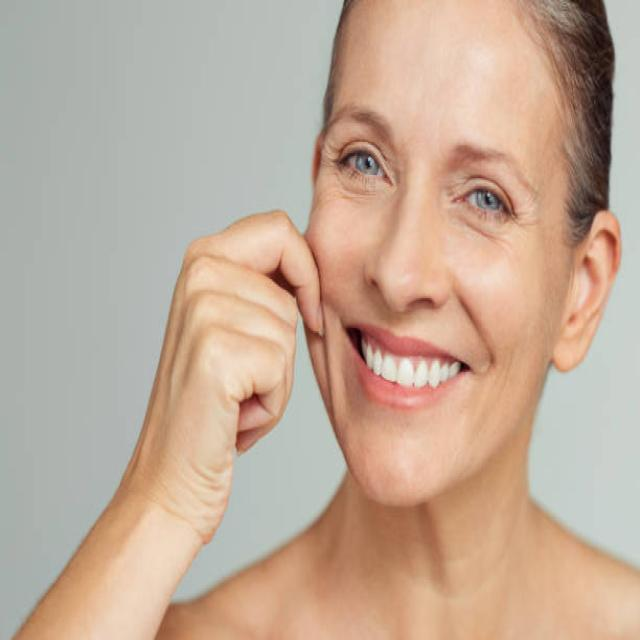Dry-Skin: (506, 186, 566, 435)
